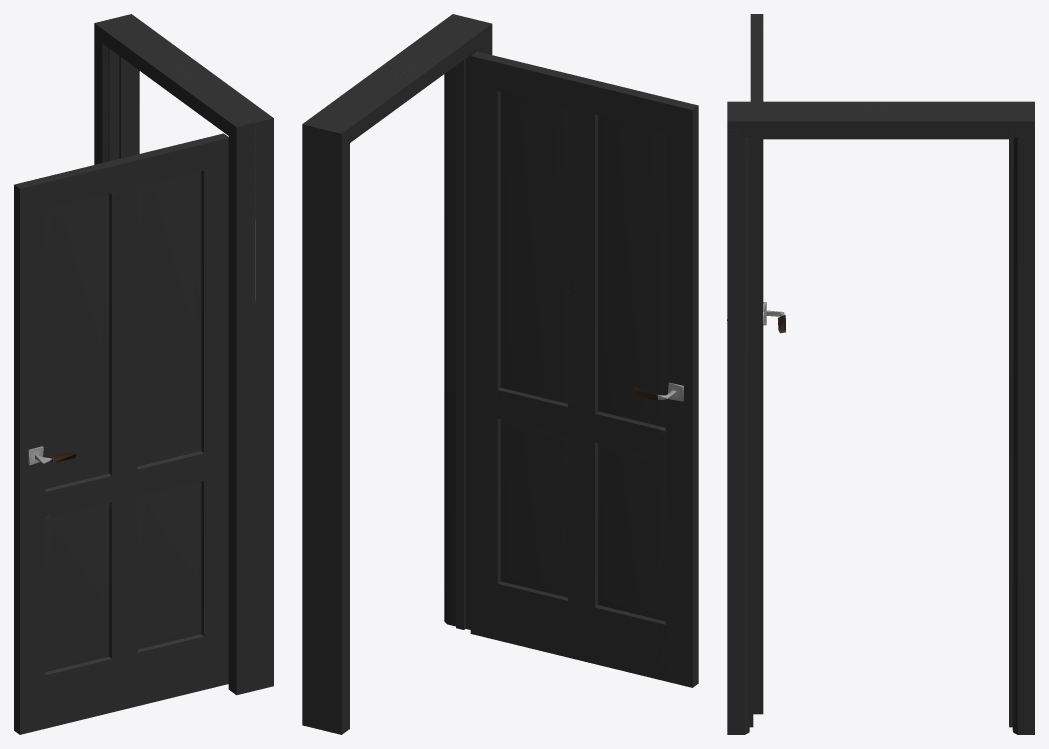
The model's file is Door0017open.obj.
The picture shows the model from 3 angles, left to right: view 1: azimuth 30°, elevation 25°; view 2: azimuth 150°, elevation 25°; view 3: azimuth 270°, elevation 25°; orthographic projection. The views are drawn at different scales.
Size of the model in its own units: 0.951 by 2.12 by 0.965.
1 material, 1 textured.
